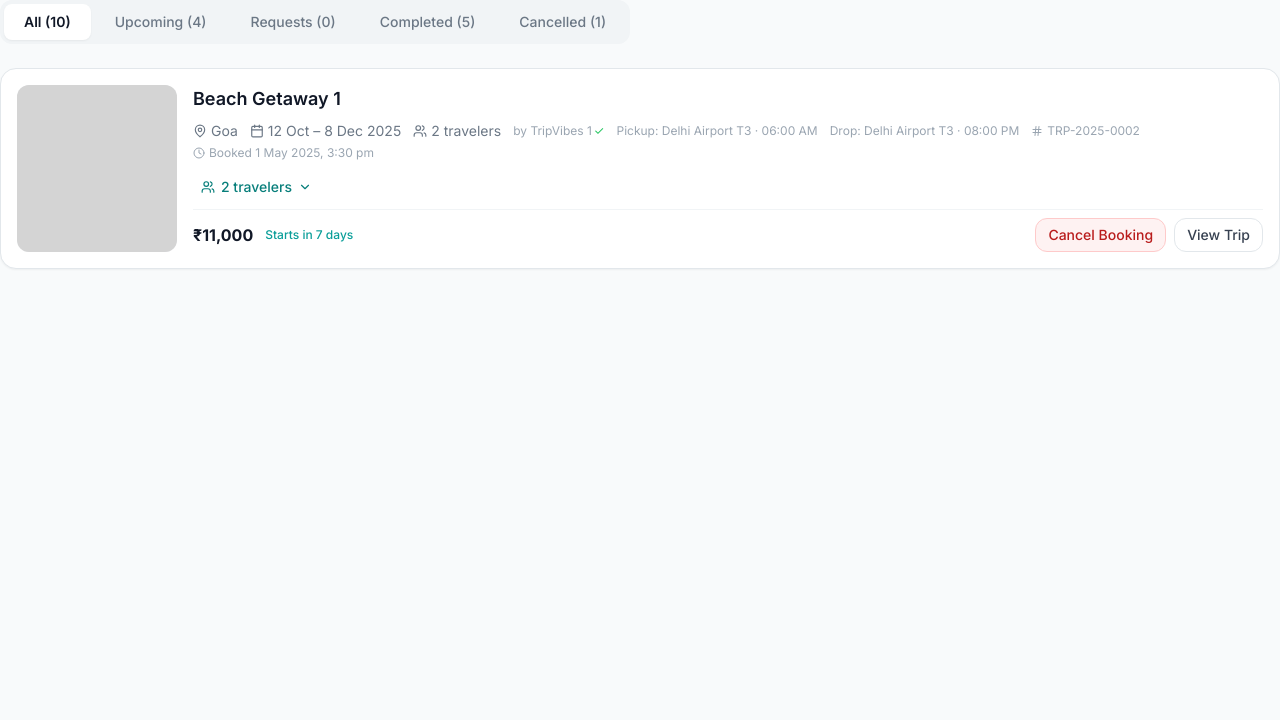
Test: MyBookingsList › should disable cancel button when reason is too short
Click the button "Cancel Booking" at [1101, 235], box [1035,218,1166,252]
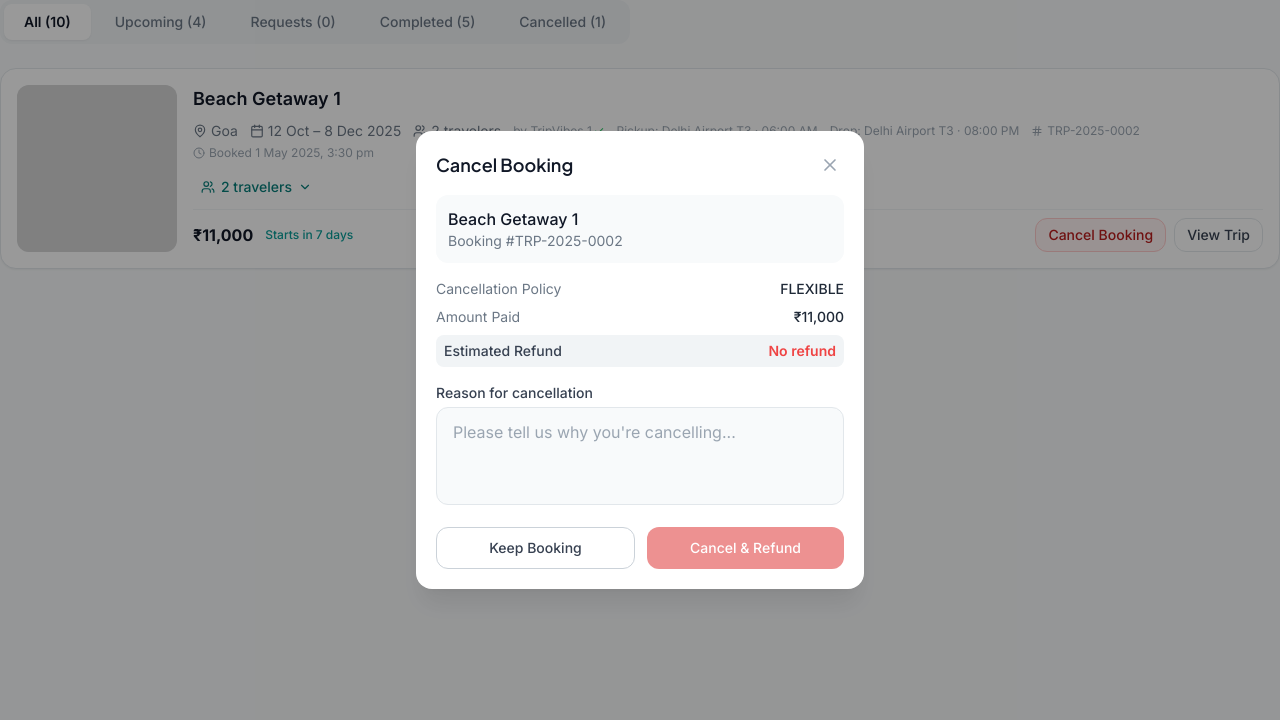
Now the button "Cancel & Refund" is disabled, box [647,527,844,569]
Type 3 chars (too short, min is 5)
Type "abc" into the text box with placeholder "Please tell us why you're cancelling..." at [640, 456], box [436,407,844,505]
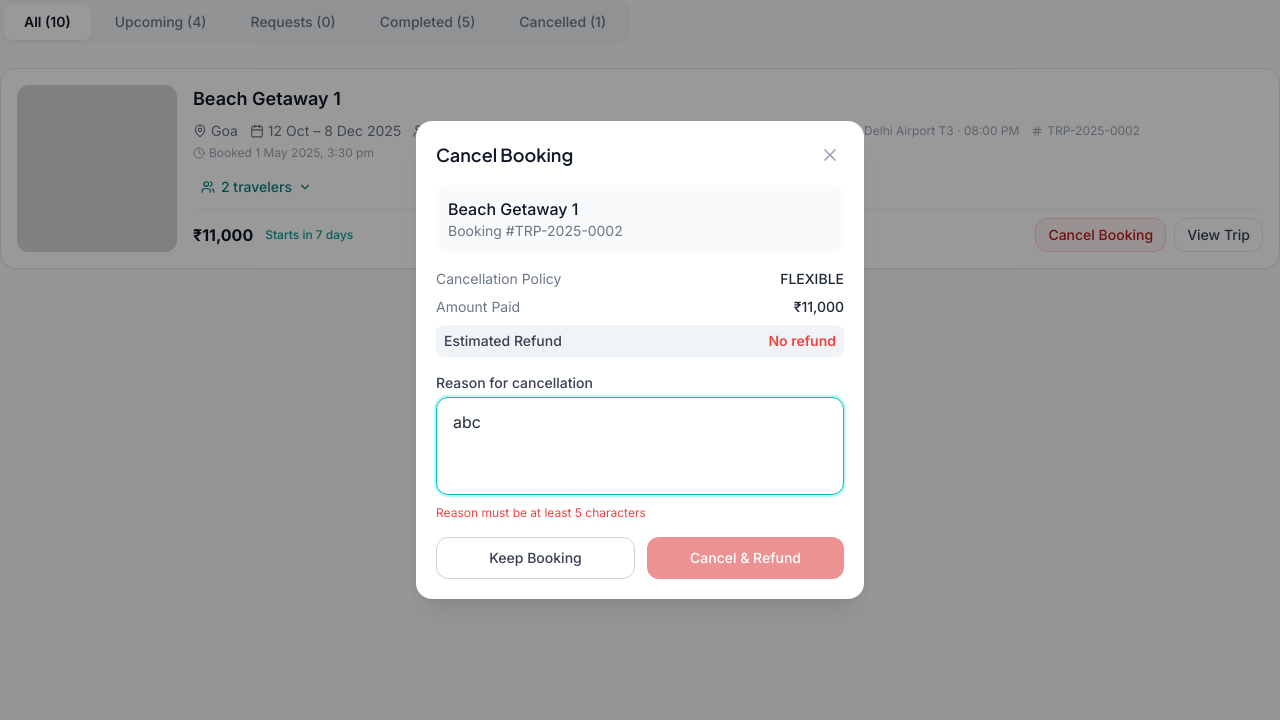
Now the button "Cancel & Refund" is disabled, box [647,537,844,579]
Now the text "Reason must be at least 5 characters" is shown, box [436,505,646,520]
